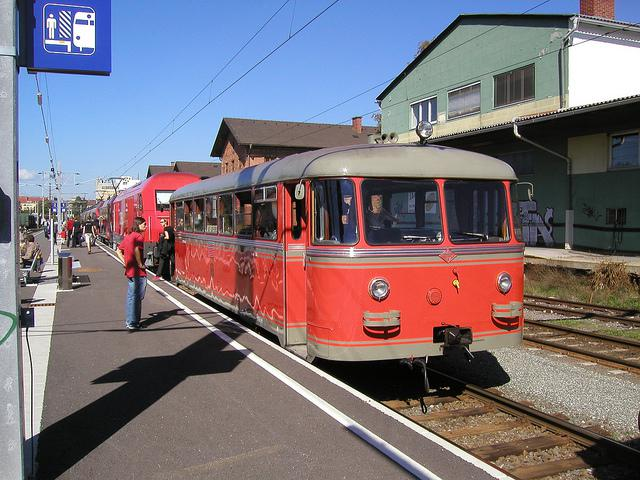Train: (80, 121, 526, 364)
